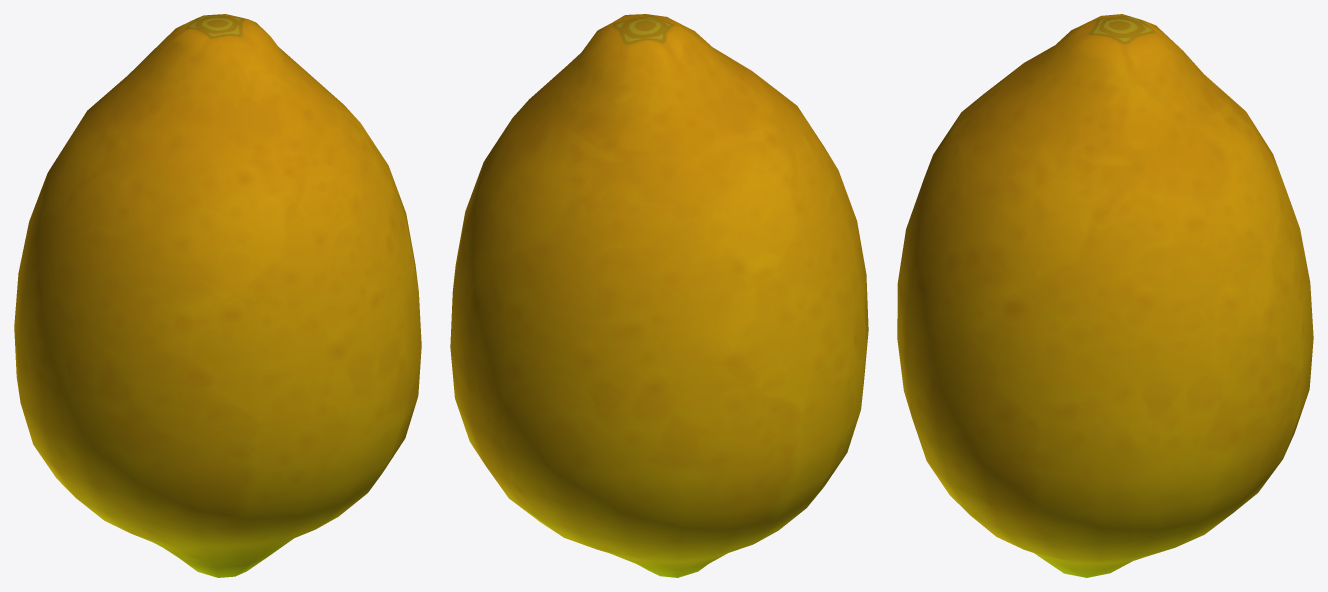
The model's file is SM_Lemon.fbx.
3 views of the same model, side by side, from view 1: azimuth 30°, elevation 25°; view 2: azimuth 150°, elevation 25°; view 3: azimuth 270°, elevation 25° (orthographic). The views are drawn at different scales.
Visible parts, largest first — view 1: SM_Lemon; view 2: SM_Lemon; view 3: SM_Lemon.
Boxes of the visible parts, x1,y1,x2,y2 form: SM_Lemon: [14, 14, 421, 577]; SM_Lemon: [450, 14, 868, 577]; SM_Lemon: [897, 14, 1313, 577].
Bounding box in the file's own units: 11.01 × 15.99 × 10.88.
Materials: 1 (1 with a texture image).
